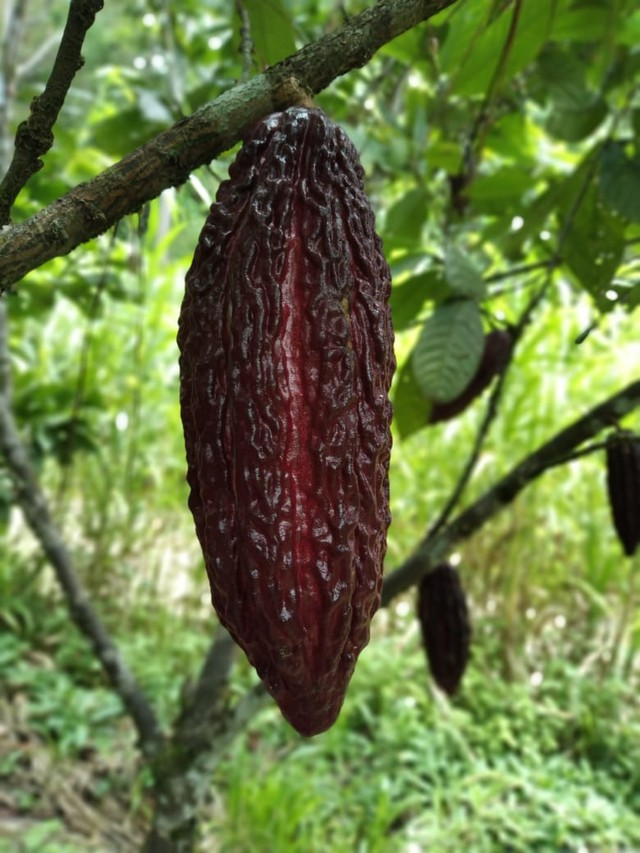Health: (165, 105, 400, 740)
